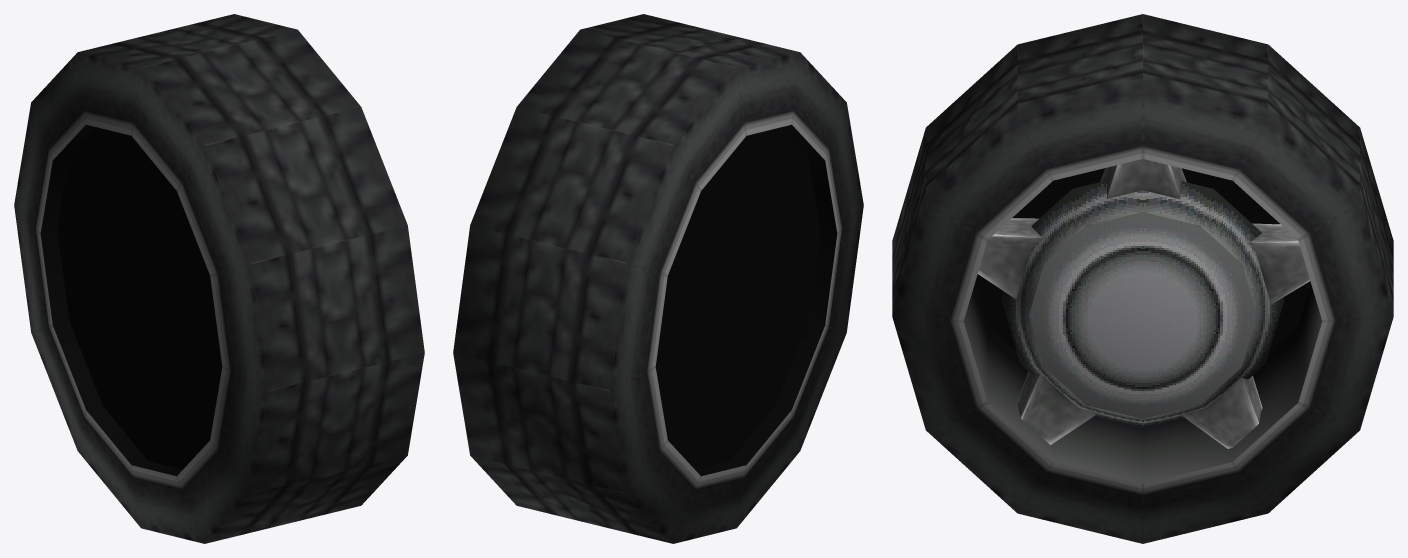
The model's file is DefaultWheel_cadrona.glb.
3 views of the same model, side by side, from view 1: azimuth 30°, elevation 25°; view 2: azimuth 150°, elevation 25°; view 3: azimuth 270°, elevation 25° (orthographic).
Visible parts, largest first — view 1: wheel; view 2: wheel; view 3: wheel.
Part boxes in pixels (x1,y1,x2,y2): wheel: [14, 14, 424, 543]; wheel: [453, 14, 863, 543]; wheel: [892, 14, 1393, 543].
Bounding box in the file's own units: 0.2954 × 0.7026 × 0.7026.
4 materials, 3 textured.
